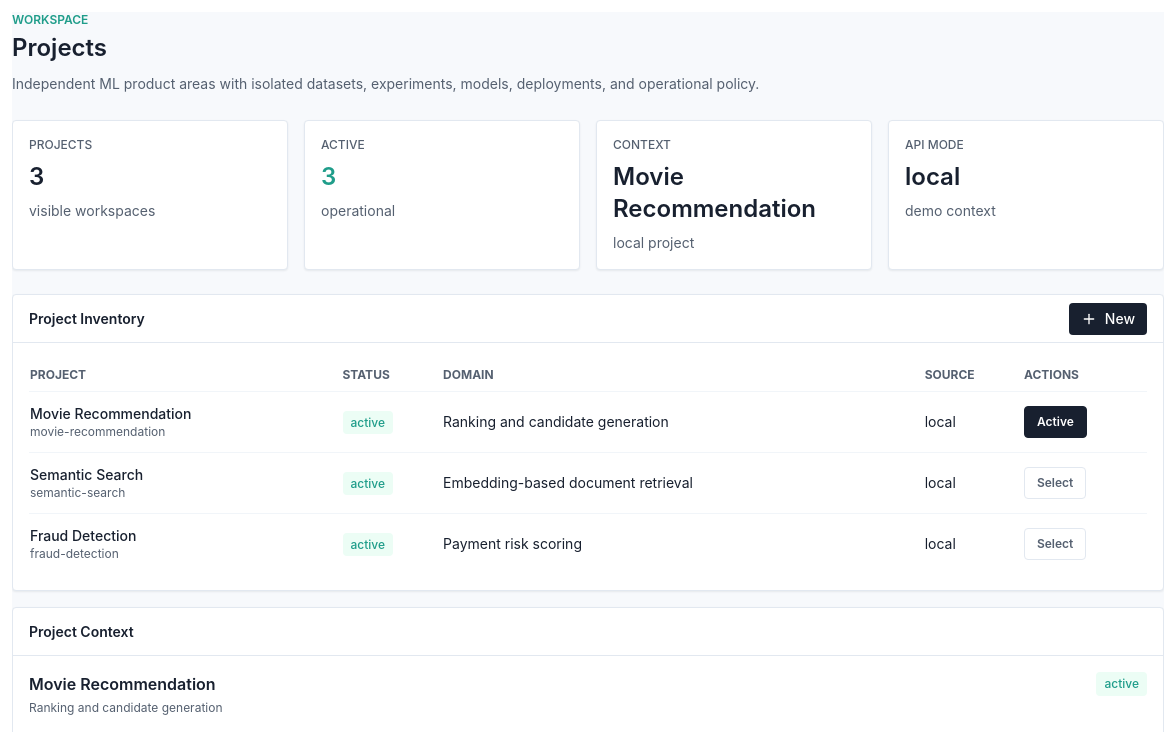
Test case: ProjectsPage › creates a browser-scoped project from the New action
Click the button "New" at (1108, 318), box [1069,302,1147,334]
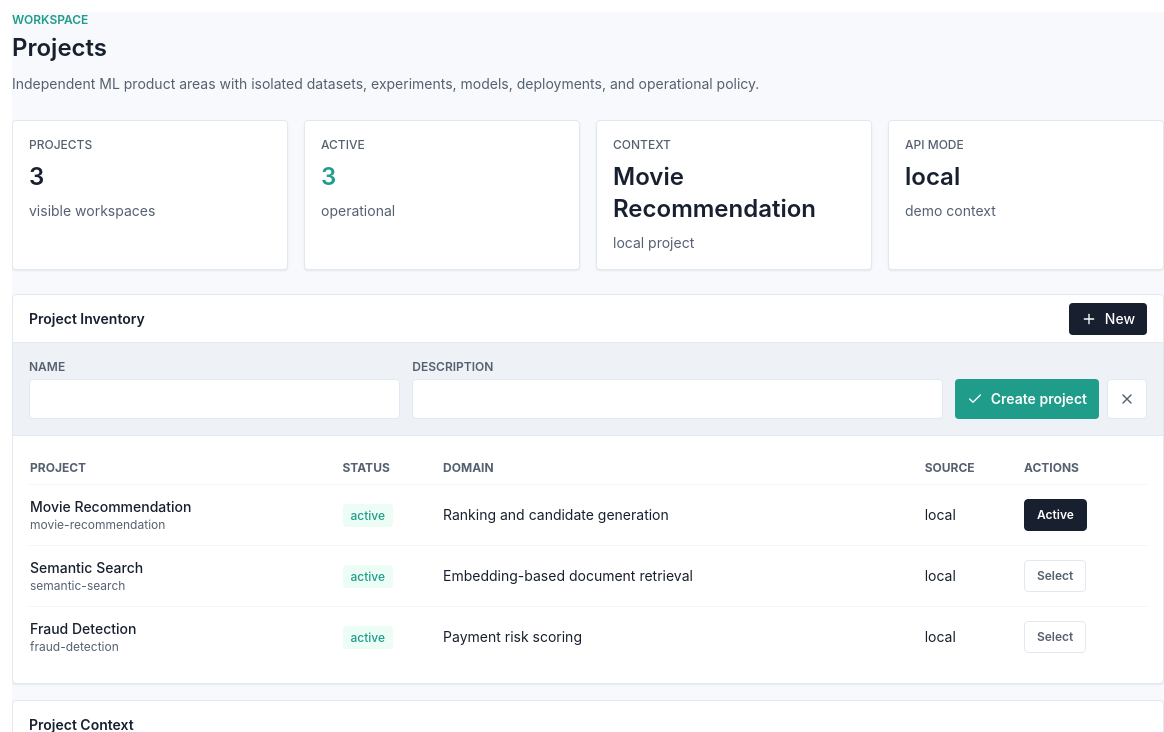
Type "Audience Forecasting" into the field labelled "Name" at (215, 399), box [29,379,400,419]
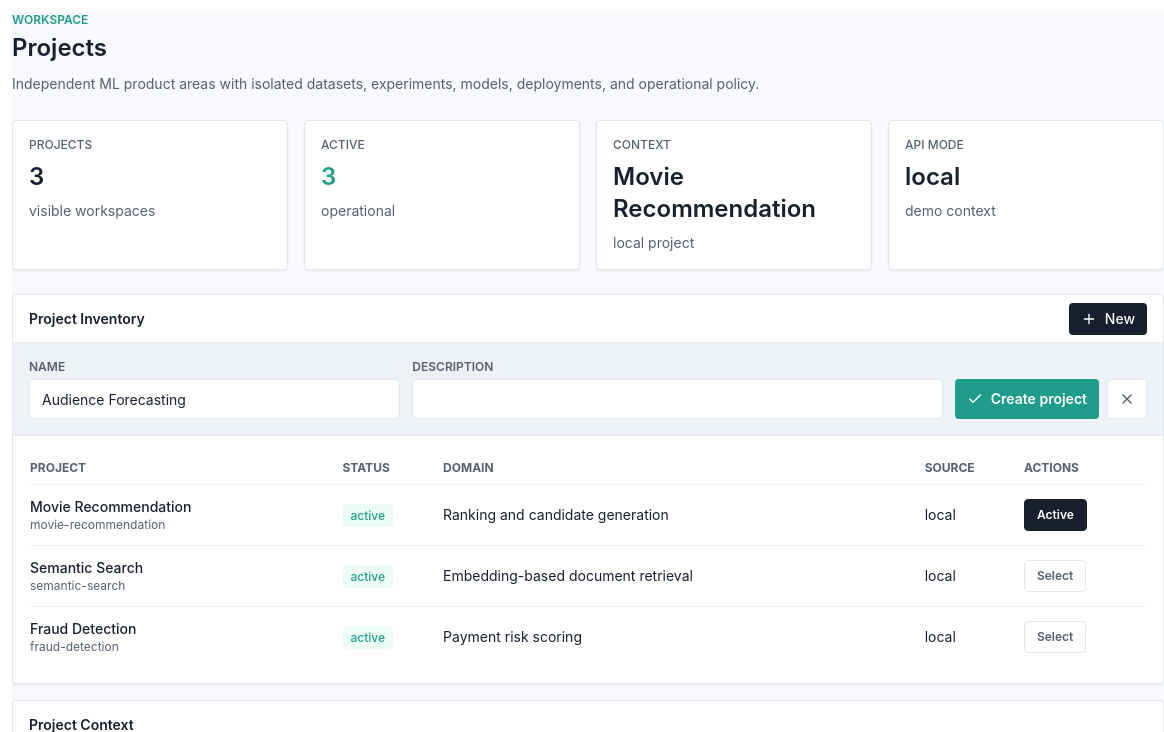
Type "Demand planning models" into the field labelled "Description" at (678, 399), box [412,379,943,419]
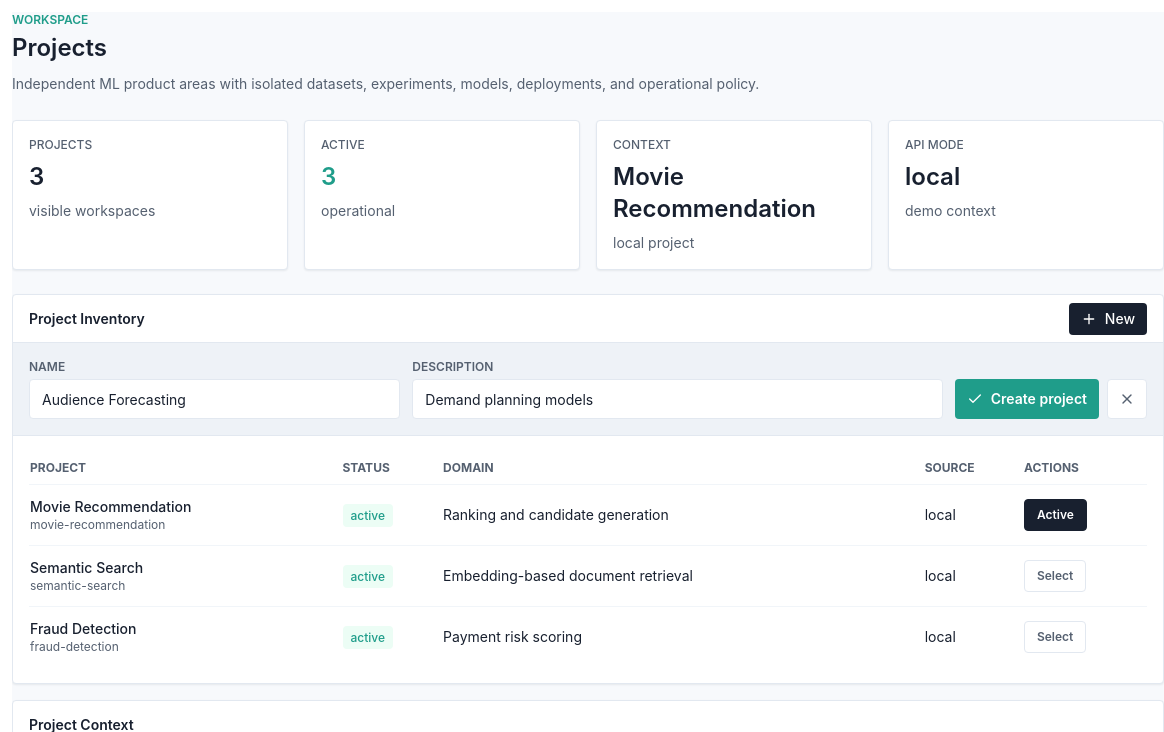
Click the button "Create project" at (1027, 399), box [955,379,1099,419]
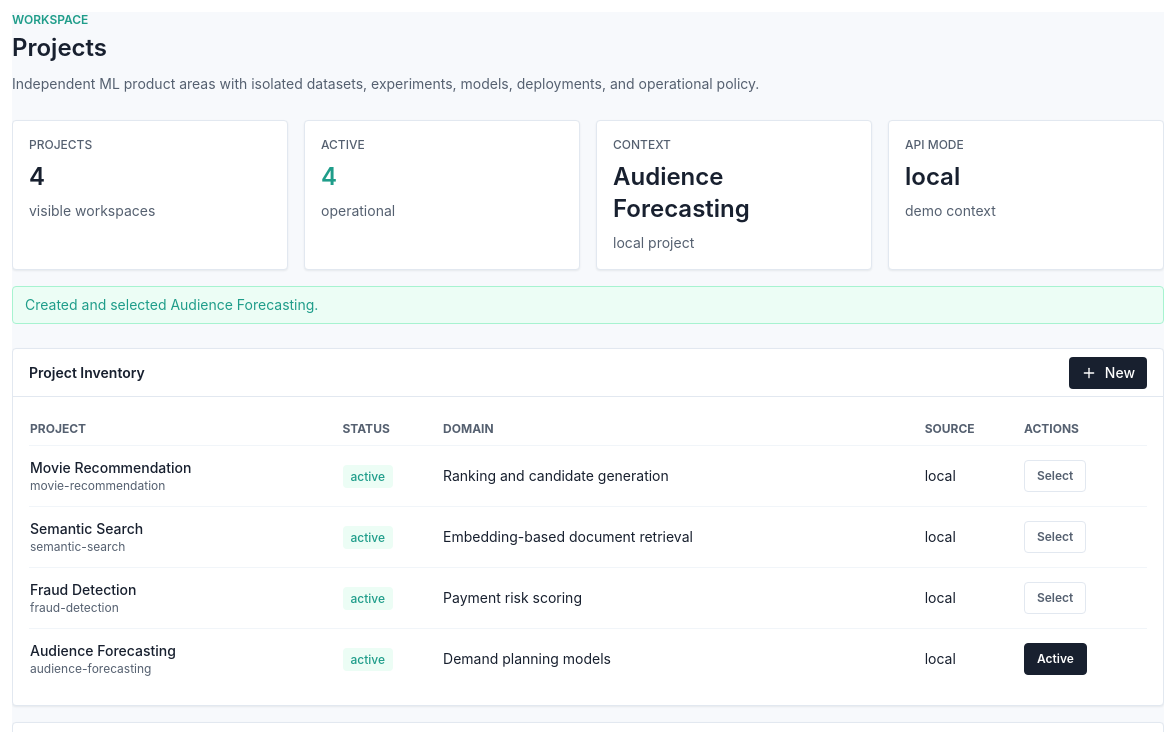
Result: the text "Created and selected Audience Forecasting." is shown at [12,286,1163,324]
Result: the text "Audience Forecasting" next to "demo context" is shown at [613,162,750,223]
Result: the text "Demand planning models" is shown at [442,628,924,689]
